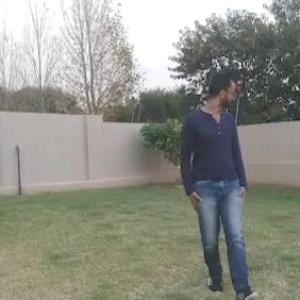follow: (189, 73, 248, 299)
